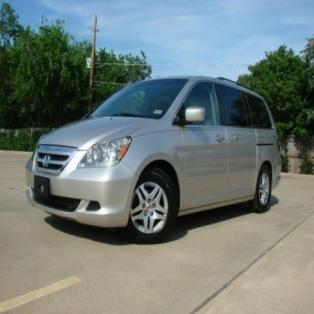Auto: (23, 71, 284, 246)
